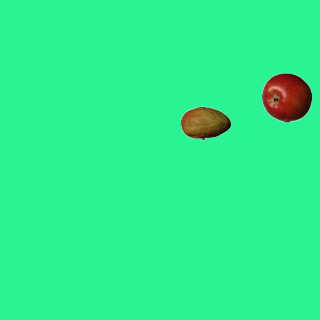Apple Braeburn: (261, 72, 311, 122)
Papaya: (180, 98, 230, 148)
